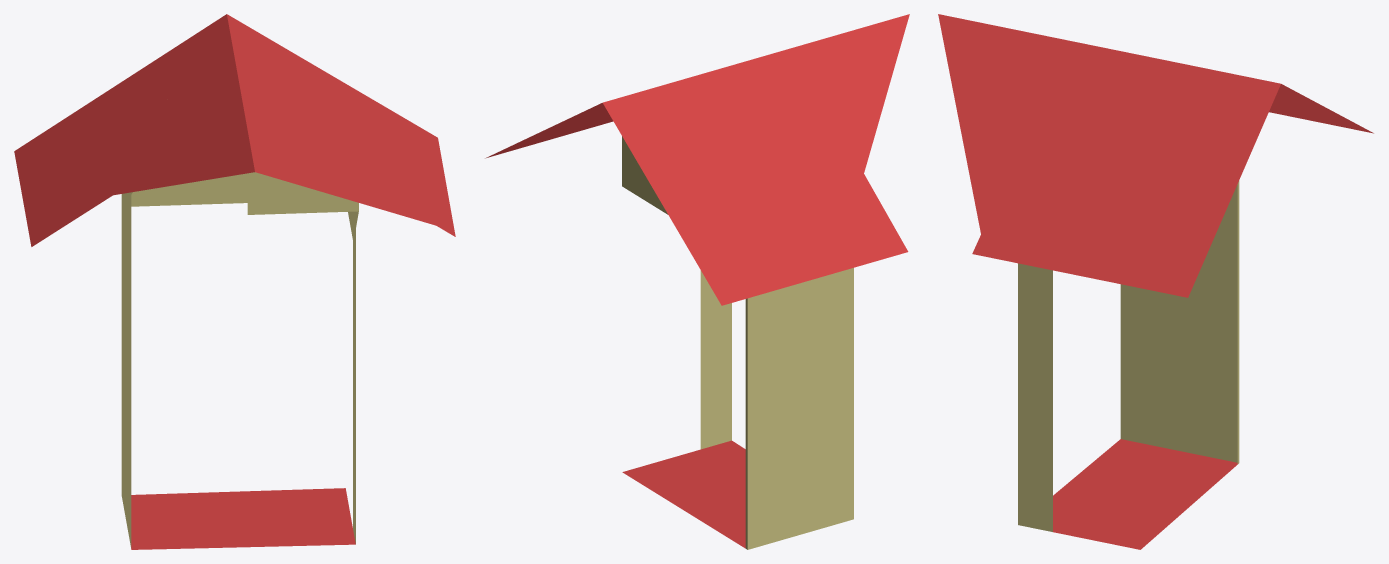
3 renders of one model, left to right at view 1: azimuth 30°, elevation 25°; view 2: azimuth 150°, elevation 25°; view 3: azimuth 270°, elevation 25°, orthographic. The views are drawn at different scales.
Bounding box in the file's own units: 14.43 × 12.9 × 14.39.
